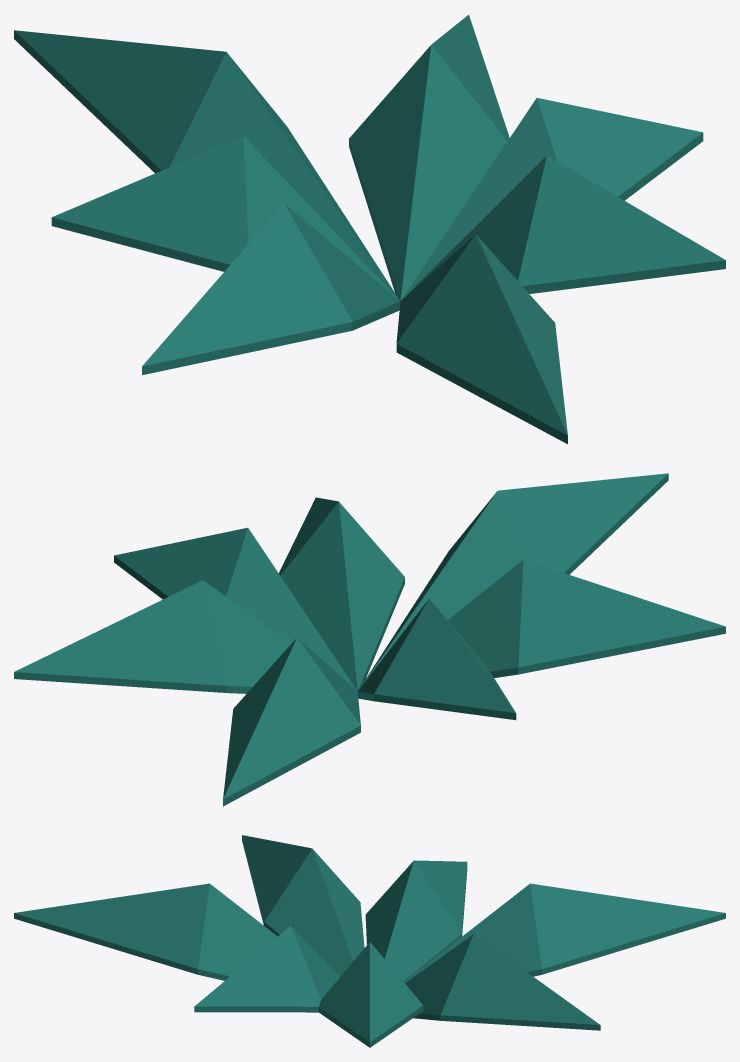
3 renders of one model, top to bottom at view 1: azimuth 30°, elevation 25°; view 2: azimuth 150°, elevation 25°; view 3: azimuth 270°, elevation 25°, orthographic. The views are drawn at different scales.
Visible parts, largest first — view 1: 森林叠叶_2.001; view 2: 森林叠叶_2.001; view 3: 森林叠叶_2.001.
Boxes of the visible parts, box(x1,y1,x2,y2) form: 森林叠叶_2.001: box(14, 14, 725, 444); 森林叠叶_2.001: box(14, 473, 725, 806); 森林叠叶_2.001: box(14, 835, 725, 1047).
Size of the model in its own units: 0.3143 by 0.0814 by 0.4563.
